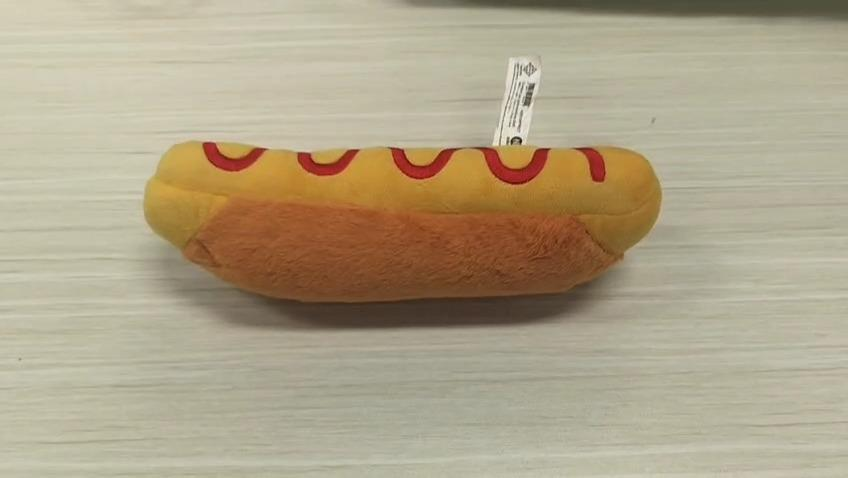hotdog: (142, 137, 662, 304)
